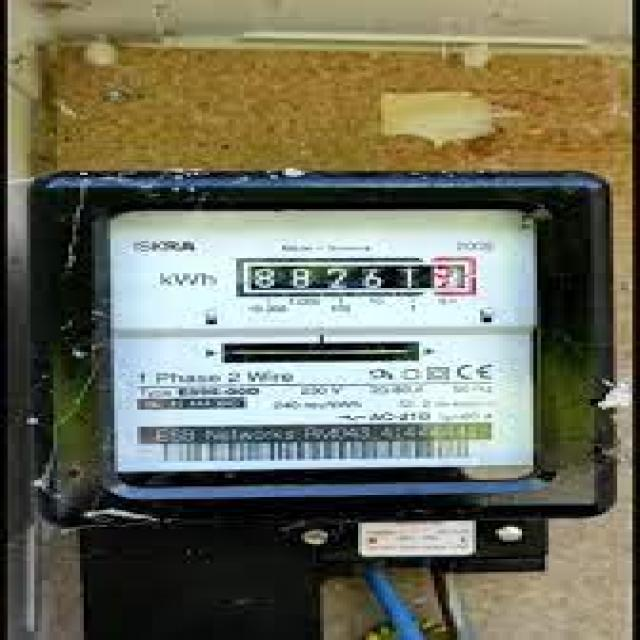1: (393, 266, 432, 292)
2: (317, 266, 355, 290)
6: (358, 266, 392, 292)
8: (244, 266, 283, 292), (283, 266, 317, 290)
analog meter: (232, 257, 493, 299)
